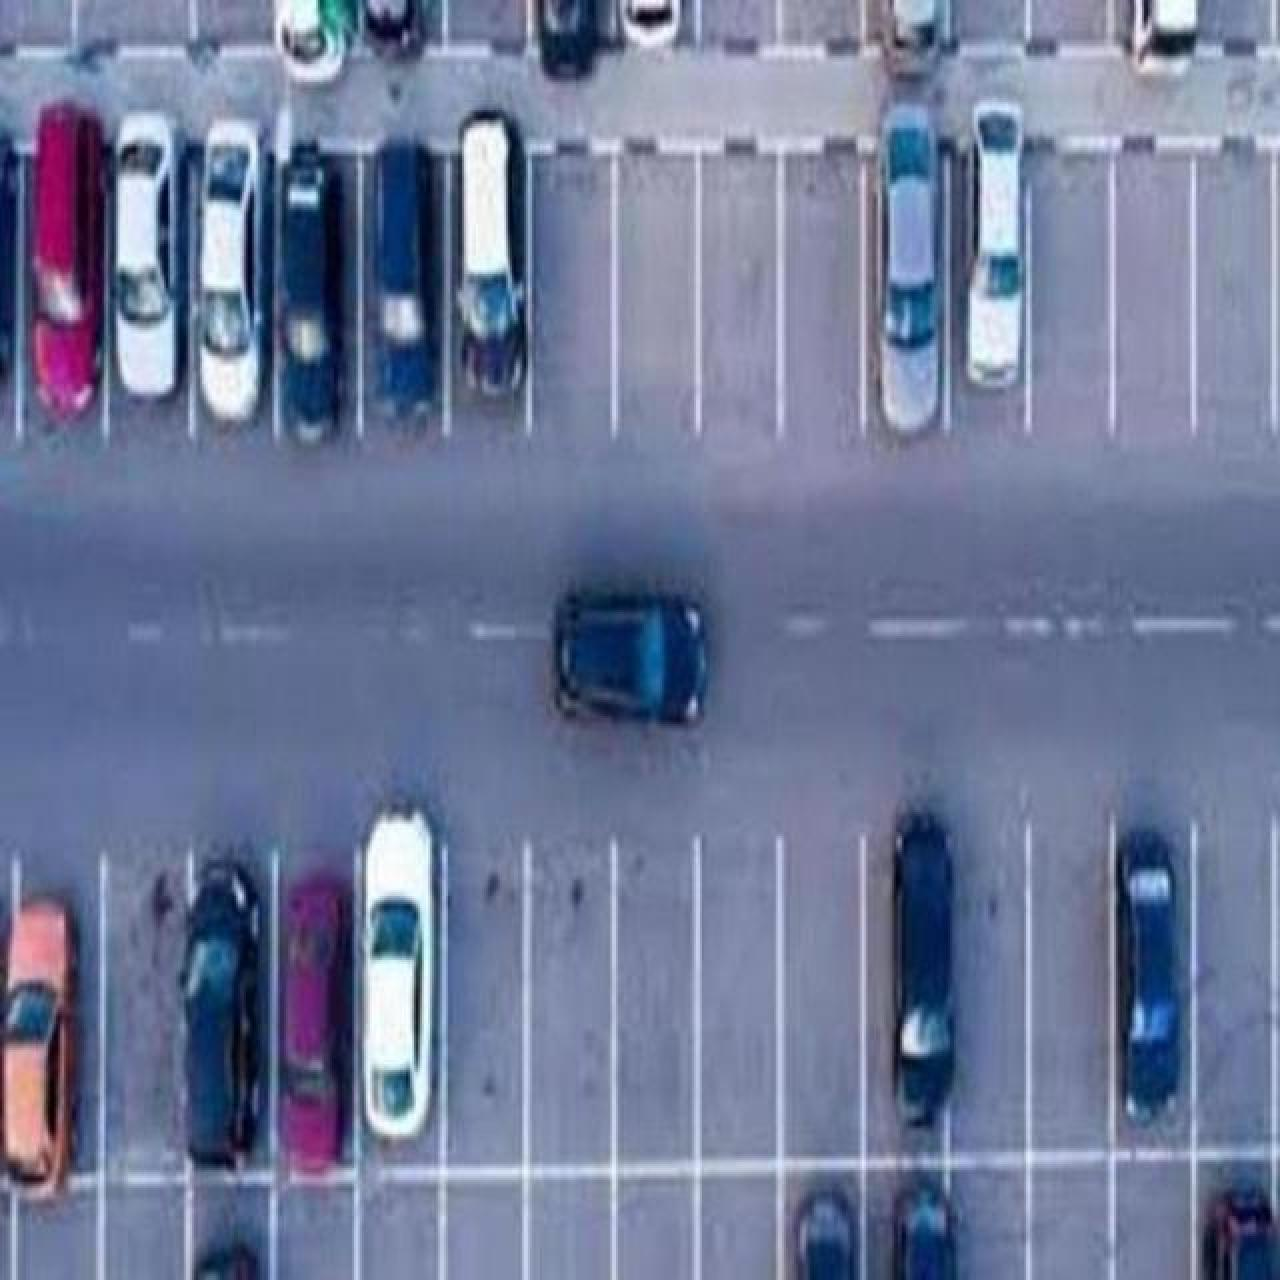car: (176, 862, 265, 1164), (360, 799, 438, 1141), (27, 102, 107, 416), (273, 134, 348, 445), (0, 892, 79, 1186), (108, 107, 184, 402), (550, 584, 708, 726), (880, 100, 945, 434), (890, 810, 956, 1126), (200, 114, 267, 430), (278, 871, 347, 1169), (1114, 826, 1182, 1126), (457, 108, 525, 400), (373, 131, 438, 433), (962, 98, 1024, 389), (1200, 1178, 1280, 1280), (270, 0, 360, 84), (893, 1175, 959, 1280), (792, 1180, 858, 1280), (533, 0, 605, 83), (1130, 0, 1201, 82), (878, 0, 948, 83), (358, 0, 427, 70), (615, 0, 687, 52), (195, 1238, 260, 1280)
